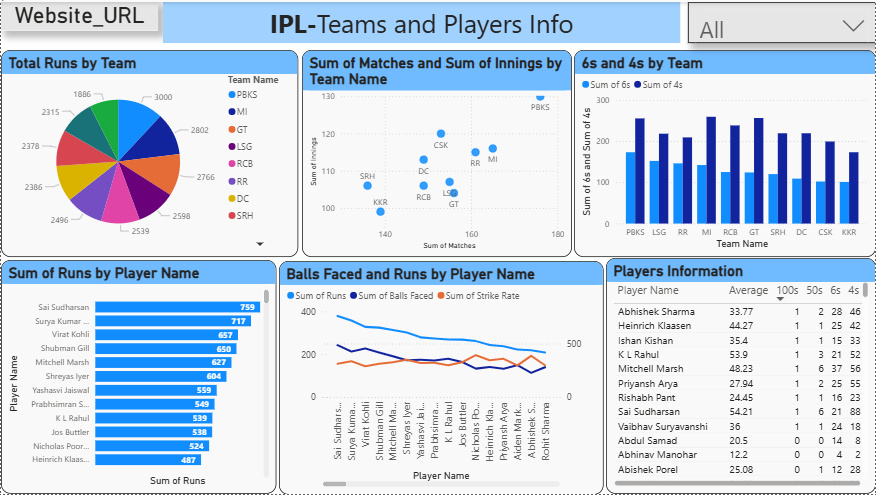

The page's visual inventory and layout, read from the dashboard file:
{"tool":"powerbi","page":{"name":"IPL_Teams&Players","canvas":[1280,720],"ordinal":1},"visuals":[{"type":"barChart","fields":{"Category":["Table1.Player Name"],"Y":["Sum(Table1.Runs)"]},"box":[0,377.4,403.2,342.3],"z":0},{"type":"lineChart","title":"Balls Faced and Runs by Player Name","fields":{"Y":["Sum(Table1.Runs)","Sum(Table1.Balls Faced)"],"Category":["Table1.Player Name"],"Y2":["Sum(Table1.Strike Rate)"]},"box":[406.7,378.3,475,341.7],"z":1000},{"type":"pieChart","title":"Total Runs by Team","fields":{"Category":["Table1.Team Name"],"Y":["Sum(Table1.Runs)"]},"box":[0,70,435,302.5],"z":2000},{"type":"clusteredColumnChart","title":"6s and 4s by Team","fields":{"Category":["Table1.Team Name"],"Y":["Sum(Table1.6s)","Sum(Table1.4s)"]},"box":[838.3,70,441.7,303.3],"z":3000},{"type":"tableEx","title":"Players Information","fields":{"Values":["Table1.Player Name","Table1.Average","Table1.100s","Table1.50s","Table1.6s","Table1.4s"]},"box":[885,375,395,345],"z":4000},{"type":"scatterChart","title":"Sum of Matches and Sum of Innings by Team Name","fields":{"Category":["Table1.Team Name"],"X":["Sum(Table1.Matches)"],"Y":["Sum(Table1.Innings)"]},"box":[440,70,395,303.3],"z":5000},{"type":"actionButton","title":"Website_URL","box":[0,0,230,41.7],"z":6000},{"type":"textbox","box":[236.7,0,763.3,60],"z":7000},{"type":"slicer","fields":{"Values":["Table1.Team Name"]},"box":[1005,0,275,60],"z":8000}]}

Visuals, with their boxes in screenshot pixels (x1, y1, x2, y2), scaled from the page's 1280x720 canvas onto the 876x495 screenshot:
barChart - Table1.Player Name x Sum(Table1.Runs): {"x1": 0, "y1": 259, "x2": 276, "y2": 494}
"Balls Faced and Runs by Player Name" lineChart: {"x1": 278, "y1": 260, "x2": 603, "y2": 494}
"Total Runs by Team" pieChart: {"x1": 0, "y1": 48, "x2": 298, "y2": 256}
"6s and 4s by Team" clusteredColumnChart: {"x1": 574, "y1": 48, "x2": 875, "y2": 257}
"Players Information" tableEx: {"x1": 606, "y1": 258, "x2": 875, "y2": 494}
"Sum of Matches and Sum of Innings by Team Name" scatterChart: {"x1": 301, "y1": 48, "x2": 571, "y2": 257}
"Website_URL" actionButton: {"x1": 0, "y1": 0, "x2": 157, "y2": 29}
textbox: {"x1": 162, "y1": 0, "x2": 684, "y2": 41}
slicer - Table1.Team Name: {"x1": 688, "y1": 0, "x2": 875, "y2": 41}
